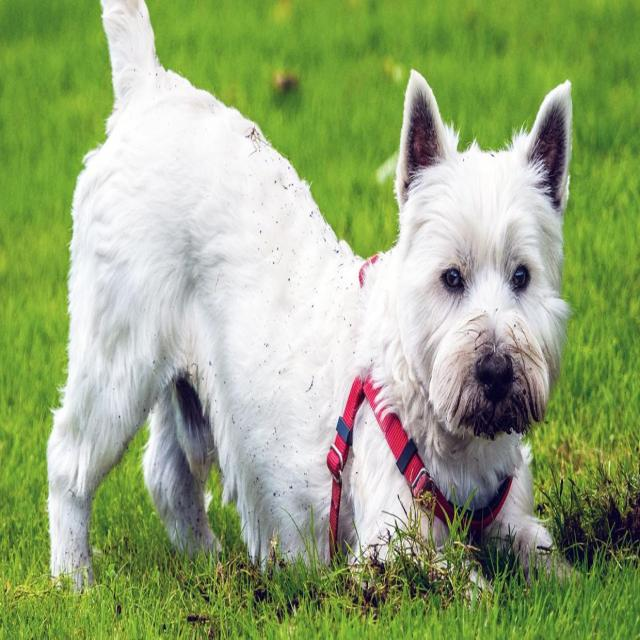Dog: (393, 60, 585, 462)
